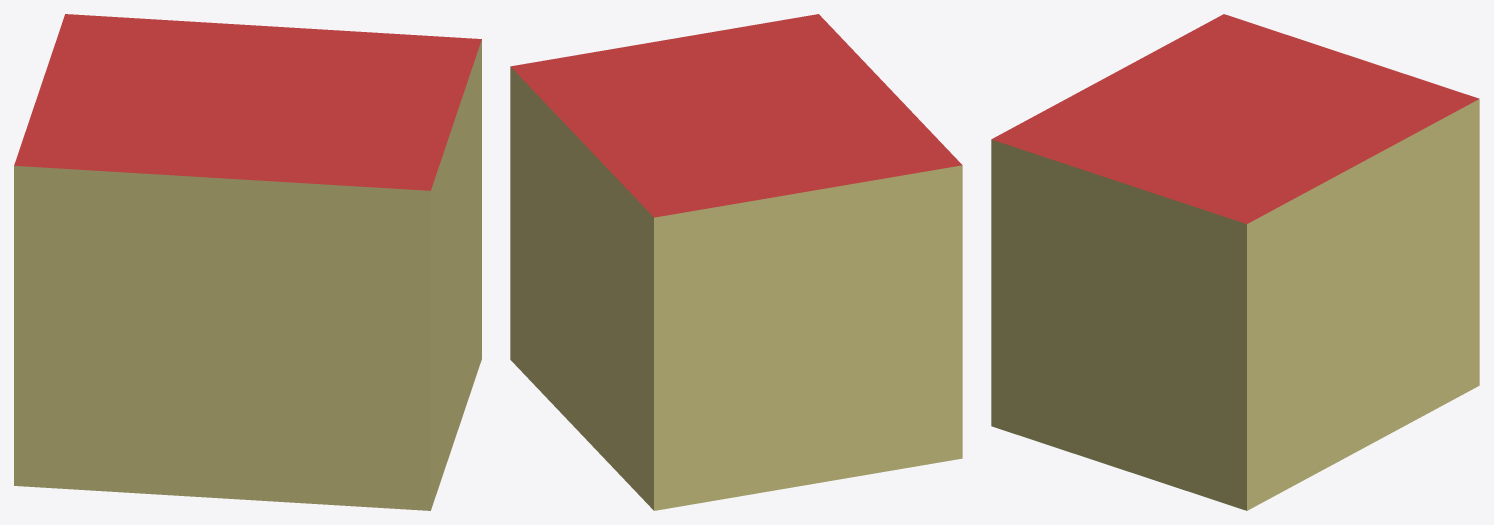
The picture shows the model from 3 angles, left to right: view 1: azimuth 30°, elevation 25°; view 2: azimuth 150°, elevation 25°; view 3: azimuth 270°, elevation 25°; orthographic projection. The views are drawn at different scales.
Size of the model in its own units: 9.09 by 8.93 by 5.78.
